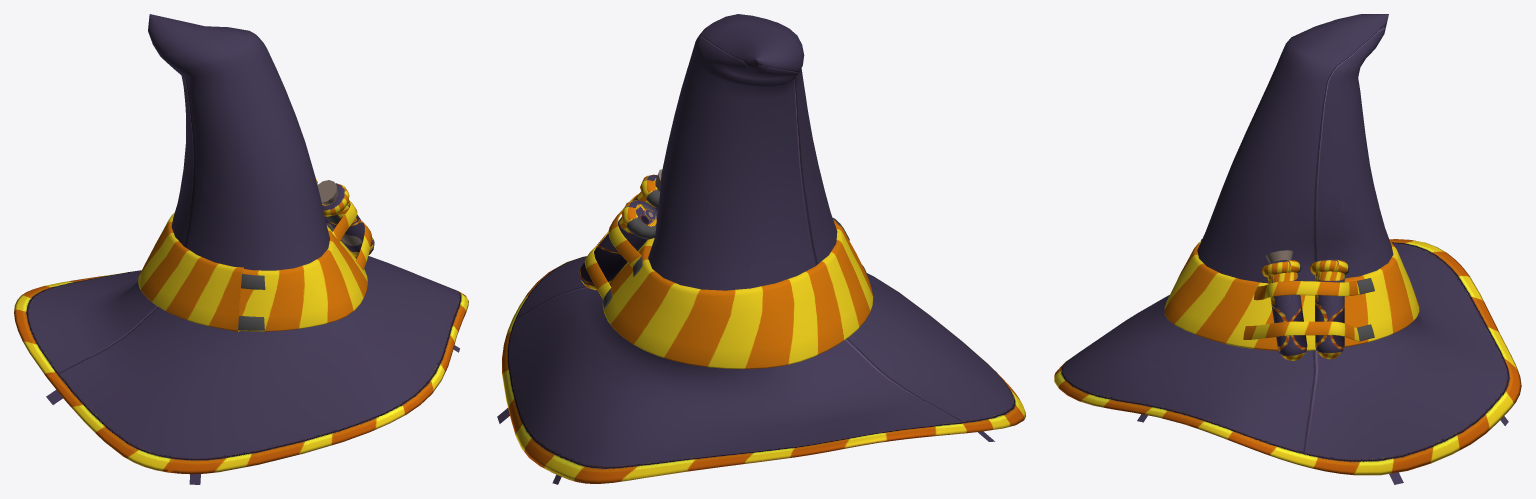
Rendered from witch_hat.FBX.
The picture shows the model from 3 angles, left to right: view 1: azimuth 30°, elevation 25°; view 2: azimuth 150°, elevation 25°; view 3: azimuth 270°, elevation 25°; orthographic projection. The views are drawn at different scales.
Visible parts, largest first — view 1: hat_witch_hat_2017; view 2: hat_witch_hat_2017; view 3: hat_witch_hat_2017.
Boxes of the visible parts, box(x1,y1,x2,y2) form: hat_witch_hat_2017: box(14, 14, 468, 484); hat_witch_hat_2017: box(497, 14, 1025, 484); hat_witch_hat_2017: box(1054, 14, 1521, 484).
Size of the model in its own units: 51.88 by 44.29 by 50.49.
Materials: 3 (3 with a texture image).
